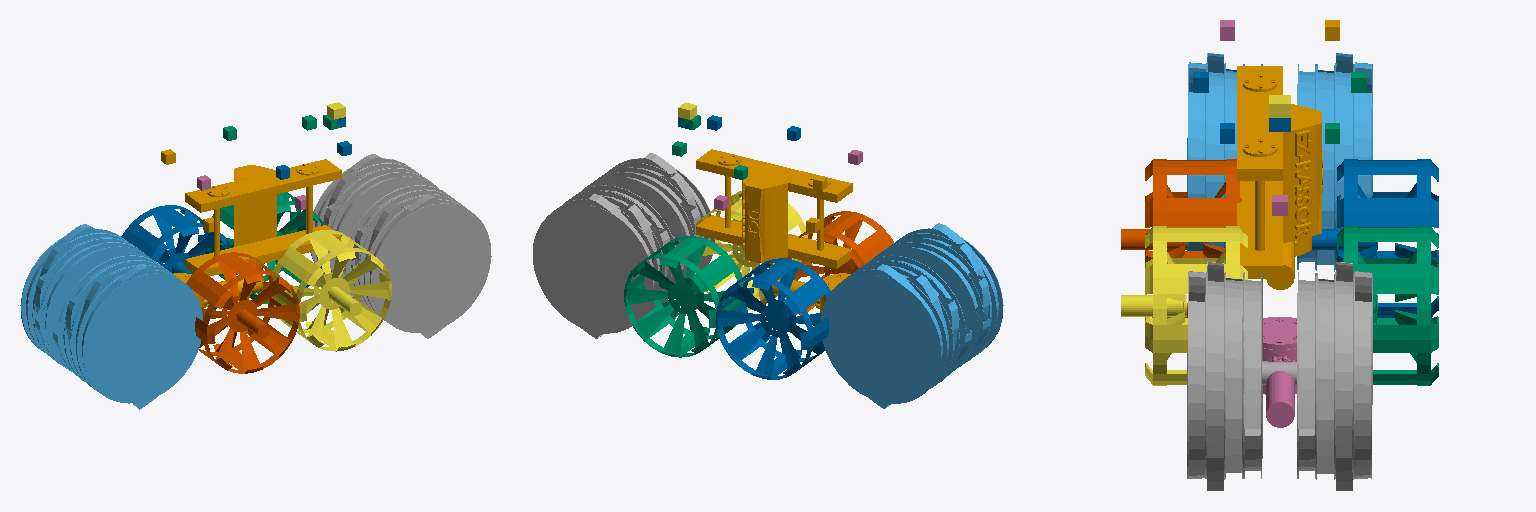
URDF robot description (ipex):
<?xml version="1.0" ?>
<!-- =================================================================================== -->
<!-- |    This document was autogenerated by xacro from /ws/src/stewie_description/urdf/ipex.urdf.xacro | -->
<!-- |    EDITING THIS FILE BY HAND IS NOT RECOMMENDED                                 | -->
<!-- =================================================================================== -->
<!-- [REQ:AS-03] IPEx vehicle description (chassis, 4 wheels, 2 bucket drums, IMU, 8-camera rig,
     collision, inertials, joint limits, TF tree). [REQ:AS-17] the stereo baseline is the
     authoritative profile value, NOT a hard-coded literal: it defaults to the 0.05 m TRL5-final
     flight baseline (the sim's active geometry after the 2026-06-18 re-freeze) and is overridable
     via the `stereo_baseline` arg. The rejected 0.165 m shoulder split is documented in
     stewie/specs/stereo_authority.py and is deliberately NOT the default here.

     Geometry provenance: stewie/specs/profile_data/stewie_ipex_v1.json (vehicle + stereo/sensor blocks)
     and stewie/specs/ipex_specs.py (SCHULER24 NTRS 20240008162 / WHEELTEST / BDSCALE). Per-part
     MASS ALLOCATION is [ASSUMPTION] (only the 30 kg dry total + 0.21 m CG height are sourced; the
     split among chassis/wheels/drums is an engineering estimate, tagged like ipex_specs' other
     [ASSUMPTION] values). Inertias use exact rigid-body formulas on those masses+dims. -->
<robot name="ipex">
  <!-- SOURCED dry total (ROVER_MASS_CLASS_KG) -->
  <!-- [ASSUMPTION] -->
  <!-- [ASSUMPTION] arm reach ahead of chassis -->
  <!-- x2 = 6.0 ; 18 + 6 + 6 = 30 -->
  <!-- ============================ the robot ============================ -->
  <!-- base_link: the chassis body (REP-103 x-forward, y-left, z-up) -->
  <link name="base_link">
    <visual>
      <origin xyz="0 0 0.21"/>
      <geometry>
        <mesh filename="package://stewie_description/meshes/rover_body.stl"/>
      </geometry>
    </visual>
    <collision>
      <origin xyz="0 0 0.21"/>
      <geometry>
        <box size="0.46 0.3 0.18"/>
      </geometry>
    </collision>
    <inertial>
      <mass value="18.0"/>
      <inertia ixx="0.18359999999999999" ixy="0" ixz="0" iyy="0.36599999999999994" iyz="0" izz="0.45239999999999997"/>
    </inertial>
  </link>
  <!-- IMU (REP-103 imu_link; matches autonomy_contract.FRAMES) -->
  <link name="imu_link"/>
  <joint name="imu_joint" type="fixed">
    <parent link="base_link"/>
    <child link="imu_link"/>
    <origin xyz="0 0 0.21"/>
  </joint>
  <link name="front_left_wheel">
    <visual>
      <origin rpy="1.5707963267948966 0 0"/>
      <geometry>
        <mesh filename="package://stewie_description/meshes/wheel.stl"/>
      </geometry>
    </visual>
    <collision name="front_left_wheel_collision">
      <origin rpy="1.5707963267948966 0 0"/>
      <geometry>
        <cylinder length="0.18" radius="0.1525"/>
      </geometry>
    </collision>
    <inertial>
      <mass value="1.5"/>
      <inertia ixx="0.012771093749999999" ixy="0" ixz="0" iyy="0.0174421875" iyz="0" izz="0.012771093749999999"/>
    </inertial>
  </link>
  <joint name="front_left_wheel_joint" type="continuous">
    <parent link="base_link"/>
    <child link="front_left_wheel"/>
    <origin xyz="0.15 0.18225 0"/>
    <axis xyz="0 1 0"/>
    <limit effort="20.0" velocity="6.0"/>
    <!-- [ASSUMPTION] actuator limits -->
  </joint>
  <link name="front_right_wheel">
    <visual>
      <origin rpy="1.5707963267948966 0 0"/>
      <geometry>
        <mesh filename="package://stewie_description/meshes/wheel.stl"/>
      </geometry>
    </visual>
    <collision name="front_right_wheel_collision">
      <origin rpy="1.5707963267948966 0 0"/>
      <geometry>
        <cylinder length="0.18" radius="0.1525"/>
      </geometry>
    </collision>
    <inertial>
      <mass value="1.5"/>
      <inertia ixx="0.012771093749999999" ixy="0" ixz="0" iyy="0.0174421875" iyz="0" izz="0.012771093749999999"/>
    </inertial>
  </link>
  <joint name="front_right_wheel_joint" type="continuous">
    <parent link="base_link"/>
    <child link="front_right_wheel"/>
    <origin xyz="0.15 -0.18225 0"/>
    <axis xyz="0 1 0"/>
    <limit effort="20.0" velocity="6.0"/>
    <!-- [ASSUMPTION] actuator limits -->
  </joint>
  <link name="rear_left_wheel">
    <visual>
      <origin rpy="1.5707963267948966 0 0"/>
      <geometry>
        <mesh filename="package://stewie_description/meshes/wheel.stl"/>
      </geometry>
    </visual>
    <collision name="rear_left_wheel_collision">
      <origin rpy="1.5707963267948966 0 0"/>
      <geometry>
        <cylinder length="0.18" radius="0.1525"/>
      </geometry>
    </collision>
    <inertial>
      <mass value="1.5"/>
      <inertia ixx="0.012771093749999999" ixy="0" ixz="0" iyy="0.0174421875" iyz="0" izz="0.012771093749999999"/>
    </inertial>
  </link>
  <joint name="rear_left_wheel_joint" type="continuous">
    <parent link="base_link"/>
    <child link="rear_left_wheel"/>
    <origin xyz="-0.15 0.18225 0"/>
    <axis xyz="0 1 0"/>
    <limit effort="20.0" velocity="6.0"/>
    <!-- [ASSUMPTION] actuator limits -->
  </joint>
  <link name="rear_right_wheel">
    <visual>
      <origin rpy="1.5707963267948966 0 0"/>
      <geometry>
        <mesh filename="package://stewie_description/meshes/wheel.stl"/>
      </geometry>
    </visual>
    <collision name="rear_right_wheel_collision">
      <origin rpy="1.5707963267948966 0 0"/>
      <geometry>
        <cylinder length="0.18" radius="0.1525"/>
      </geometry>
    </collision>
    <inertial>
      <mass value="1.5"/>
      <inertia ixx="0.012771093749999999" ixy="0" ixz="0" iyy="0.0174421875" iyz="0" izz="0.012771093749999999"/>
    </inertial>
  </link>
  <joint name="rear_right_wheel_joint" type="continuous">
    <parent link="base_link"/>
    <child link="rear_right_wheel"/>
    <origin xyz="-0.15 -0.18225 0"/>
    <axis xyz="0 1 0"/>
    <limit effort="20.0" velocity="6.0"/>
    <!-- [ASSUMPTION] actuator limits -->
  </joint>
  <link name="front_drum_arm">
    <visual>
      <geometry>
        <mesh filename="package://stewie_description/meshes/drum_arm.stl"/>
      </geometry>
    </visual>
    <inertial>
      <mass value="0.5"/>
      <inertia ixx="0.00020833333333333337" ixy="0" ixz="0" iyy="0.004370833333333333" iyz="0" izz="0.004370833333333333"/>
    </inertial>
  </link>
  <joint name="front_drum_arm_joint" type="continuous">
    <parent link="base_link"/>
    <child link="front_drum_arm"/>
    <origin xyz="0.31 0 0"/>
    <axis xyz="0 1 0"/>
    <!-- continuous (full rotation) to match the EZ-RASSOR ROS2 URDF articulation: RASSOR arms swing
           the drums dig<->dump, not a small revolute lift. effort = ARM_EXCAVATION_LOAD_NM (IPEx spec). -->
    <limit effort="18.5" velocity="1.0"/>
  </joint>
  <link name="front_drum">
    <visual>
      <origin rpy="1.5707963267948966 0 0"/>
      <geometry>
        <mesh filename="package://stewie_description/meshes/drum.stl"/>
      </geometry>
    </visual>
    <collision>
      <origin rpy="1.5707963267948966 0 0"/>
      <geometry>
        <cylinder length="0.3526" radius="0.21855"/>
      </geometry>
    </collision>
    <inertial>
      <mass value="3.0"/>
      <inertia ixx="0.06690476687500001" ixy="0" ixz="0" iyy="0.07164615375" iyz="0" izz="0.06690476687500001"/>
    </inertial>
  </link>
  <joint name="front_drum_spin_joint" type="continuous">
    <parent link="front_drum_arm"/>
    <child link="front_drum"/>
    <origin xyz="0.16 0 0"/>
    <axis xyz="0 1 0"/>
    <limit effort="25.0" velocity="2.62"/>
    <!-- 25 RPM drum (ipex_specs.DRUM_SPEED_RPM) -->
  </joint>
  <link name="rear_drum_arm">
    <visual>
      <geometry>
        <mesh filename="package://stewie_description/meshes/drum_arm.stl"/>
      </geometry>
    </visual>
    <inertial>
      <mass value="0.5"/>
      <inertia ixx="0.00020833333333333337" ixy="0" ixz="0" iyy="0.004370833333333333" iyz="0" izz="0.004370833333333333"/>
    </inertial>
  </link>
  <joint name="rear_drum_arm_joint" type="continuous">
    <parent link="base_link"/>
    <child link="rear_drum_arm"/>
    <origin xyz="-0.31 0 0"/>
    <axis xyz="0 1 0"/>
    <!-- continuous (full rotation) to match the EZ-RASSOR ROS2 URDF articulation: RASSOR arms swing
           the drums dig<->dump, not a small revolute lift. effort = ARM_EXCAVATION_LOAD_NM (IPEx spec). -->
    <limit effort="18.5" velocity="1.0"/>
  </joint>
  <link name="rear_drum">
    <visual>
      <origin rpy="1.5707963267948966 0 0"/>
      <geometry>
        <mesh filename="package://stewie_description/meshes/drum.stl"/>
      </geometry>
    </visual>
    <collision>
      <origin rpy="1.5707963267948966 0 0"/>
      <geometry>
        <cylinder length="0.3526" radius="0.21855"/>
      </geometry>
    </collision>
    <inertial>
      <mass value="3.0"/>
      <inertia ixx="0.06690476687500001" ixy="0" ixz="0" iyy="0.07164615375" iyz="0" izz="0.06690476687500001"/>
    </inertial>
  </link>
  <joint name="rear_drum_spin_joint" type="continuous">
    <parent link="rear_drum_arm"/>
    <child link="rear_drum"/>
    <origin xyz="-0.16 0 0"/>
    <axis xyz="0 1 0"/>
    <limit effort="25.0" velocity="2.62"/>
    <!-- 25 RPM drum (ipex_specs.DRUM_SPEED_RPM) -->
  </joint>
  <link name="camera_front_left">
    <visual>
      <geometry>
        <box size="0.03 0.03 0.03"/>
      </geometry>
    </visual>
    <inertial>
      <mass value="0.05"/>
      <inertia ixx="7.5e-06" ixy="0" ixz="0" iyy="7.5e-06" iyz="0" izz="7.5e-06"/>
    </inertial>
  </link>
  <joint name="camera_front_left_joint" type="fixed">
    <parent link="base_link"/>
    <child link="camera_front_left"/>
    <origin rpy="0 0 0" xyz="0.23 0.1 0.4"/>
  </joint>
  <!-- optical frame: REP-103 body (x-fwd,z-up) -> optical (z-fwd,x-right,y-down) = rpy(-pi/2,0,-pi/2) -->
  <link name="camera_front_left_optical"/>
  <joint name="camera_front_left_optical_joint" type="fixed">
    <parent link="camera_front_left"/>
    <child link="camera_front_left_optical"/>
    <origin rpy="-1.5707963267948966 0 -1.5707963267948966"/>
  </joint>
  <link name="camera_front_right">
    <visual>
      <geometry>
        <box size="0.03 0.03 0.03"/>
      </geometry>
    </visual>
    <inertial>
      <mass value="0.05"/>
      <inertia ixx="7.5e-06" ixy="0" ixz="0" iyy="7.5e-06" iyz="0" izz="7.5e-06"/>
    </inertial>
  </link>
  <joint name="camera_front_right_joint" type="fixed">
    <parent link="base_link"/>
    <child link="camera_front_right"/>
    <origin rpy="0 0 0" xyz="0.23 -0.1 0.4"/>
  </joint>
  <!-- optical frame: REP-103 body (x-fwd,z-up) -> optical (z-fwd,x-right,y-down) = rpy(-pi/2,0,-pi/2) -->
  <link name="camera_front_right_optical"/>
  <joint name="camera_front_right_optical_joint" type="fixed">
    <parent link="camera_front_right"/>
    <child link="camera_front_right_optical"/>
    <origin rpy="-1.5707963267948966 0 -1.5707963267948966"/>
  </joint>
  <link name="camera_rear_left">
    <visual>
      <geometry>
        <box size="0.03 0.03 0.03"/>
      </geometry>
    </visual>
    <inertial>
      <mass value="0.05"/>
      <inertia ixx="7.5e-06" ixy="0" ixz="0" iyy="7.5e-06" iyz="0" izz="7.5e-06"/>
    </inertial>
  </link>
  <joint name="camera_rear_left_joint" type="fixed">
    <parent link="base_link"/>
    <child link="camera_rear_left"/>
    <origin rpy="0 0 3.141592653589793" xyz="-0.23 -0.1 0.4"/>
  </joint>
  <!-- optical frame: REP-103 body (x-fwd,z-up) -> optical (z-fwd,x-right,y-down) = rpy(-pi/2,0,-pi/2) -->
  <link name="camera_rear_left_optical"/>
  <joint name="camera_rear_left_optical_joint" type="fixed">
    <parent link="camera_rear_left"/>
    <child link="camera_rear_left_optical"/>
    <origin rpy="-1.5707963267948966 0 -1.5707963267948966"/>
  </joint>
  <link name="camera_rear_right">
    <visual>
      <geometry>
        <box size="0.03 0.03 0.03"/>
      </geometry>
    </visual>
    <inertial>
      <mass value="0.05"/>
      <inertia ixx="7.5e-06" ixy="0" ixz="0" iyy="7.5e-06" iyz="0" izz="7.5e-06"/>
    </inertial>
  </link>
  <joint name="camera_rear_right_joint" type="fixed">
    <parent link="base_link"/>
    <child link="camera_rear_right"/>
    <origin rpy="0 0 3.141592653589793" xyz="-0.23 0.1 0.4"/>
  </joint>
  <!-- optical frame: REP-103 body (x-fwd,z-up) -> optical (z-fwd,x-right,y-down) = rpy(-pi/2,0,-pi/2) -->
  <link name="camera_rear_right_optical"/>
  <joint name="camera_rear_right_optical_joint" type="fixed">
    <parent link="camera_rear_right"/>
    <child link="camera_rear_right_optical"/>
    <origin rpy="-1.5707963267948966 0 -1.5707963267948966"/>
  </joint>
  <link name="camera_left_mono">
    <visual>
      <geometry>
        <box size="0.03 0.03 0.03"/>
      </geometry>
    </visual>
    <inertial>
      <mass value="0.05"/>
      <inertia ixx="7.5e-06" ixy="0" ixz="0" iyy="7.5e-06" iyz="0" izz="7.5e-06"/>
    </inertial>
  </link>
  <joint name="camera_left_mono_joint" type="fixed">
    <parent link="base_link"/>
    <child link="camera_left_mono"/>
    <origin rpy="0 0 1.5707963267948966" xyz="0 0.15 0.4"/>
  </joint>
  <!-- optical frame: REP-103 body (x-fwd,z-up) -> optical (z-fwd,x-right,y-down) = rpy(-pi/2,0,-pi/2) -->
  <link name="camera_left_mono_optical"/>
  <joint name="camera_left_mono_optical_joint" type="fixed">
    <parent link="camera_left_mono"/>
    <child link="camera_left_mono_optical"/>
    <origin rpy="-1.5707963267948966 0 -1.5707963267948966"/>
  </joint>
  <link name="camera_right_mono">
    <visual>
      <geometry>
        <box size="0.03 0.03 0.03"/>
      </geometry>
    </visual>
    <inertial>
      <mass value="0.05"/>
      <inertia ixx="7.5e-06" ixy="0" ixz="0" iyy="7.5e-06" iyz="0" izz="7.5e-06"/>
    </inertial>
  </link>
  <joint name="camera_right_mono_joint" type="fixed">
    <parent link="base_link"/>
    <child link="camera_right_mono"/>
    <origin rpy="0 0 -1.5707963267948966" xyz="0 -0.15 0.4"/>
  </joint>
  <!-- optical frame: REP-103 body (x-fwd,z-up) -> optical (z-fwd,x-right,y-down) = rpy(-pi/2,0,-pi/2) -->
  <link name="camera_right_mono_optical"/>
  <joint name="camera_right_mono_optical_joint" type="fixed">
    <parent link="camera_right_mono"/>
    <child link="camera_right_mono_optical"/>
    <origin rpy="-1.5707963267948966 0 -1.5707963267948966"/>
  </joint>
  <link name="camera_drum_front">
    <visual>
      <geometry>
        <box size="0.03 0.03 0.03"/>
      </geometry>
    </visual>
    <inertial>
      <mass value="0.05"/>
      <inertia ixx="7.5e-06" ixy="0" ixz="0" iyy="7.5e-06" iyz="0" izz="7.5e-06"/>
    </inertial>
  </link>
  <joint name="camera_drum_front_joint" type="fixed">
    <parent link="base_link"/>
    <child link="camera_drum_front"/>
    <origin rpy="0 0 0" xyz="0.15 0 0.21"/>
  </joint>
  <!-- optical frame: REP-103 body (x-fwd,z-up) -> optical (z-fwd,x-right,y-down) = rpy(-pi/2,0,-pi/2) -->
  <link name="camera_drum_front_optical"/>
  <joint name="camera_drum_front_optical_joint" type="fixed">
    <parent link="camera_drum_front"/>
    <child link="camera_drum_front_optical"/>
    <origin rpy="-1.5707963267948966 0 -1.5707963267948966"/>
  </joint>
  <link name="camera_drum_back">
    <visual>
      <geometry>
        <box size="0.03 0.03 0.03"/>
      </geometry>
    </visual>
    <inertial>
      <mass value="0.05"/>
      <inertia ixx="7.5e-06" ixy="0" ixz="0" iyy="7.5e-06" iyz="0" izz="7.5e-06"/>
    </inertial>
  </link>
  <joint name="camera_drum_back_joint" type="fixed">
    <parent link="base_link"/>
    <child link="camera_drum_back"/>
    <origin rpy="0 0 3.141592653589793" xyz="-0.15 0 0.21"/>
  </joint>
  <!-- optical frame: REP-103 body (x-fwd,z-up) -> optical (z-fwd,x-right,y-down) = rpy(-pi/2,0,-pi/2) -->
  <link name="camera_drum_back_optical"/>
  <joint name="camera_drum_back_optical_joint" type="fixed">
    <parent link="camera_drum_back"/>
    <child link="camera_drum_back_optical"/>
    <origin rpy="-1.5707963267948966 0 -1.5707963267948966"/>
  </joint>
  <link name="depth_sensor_mount">
    <visual>
      <geometry>
        <box size="0.04 0.04 0.03"/>
      </geometry>
    </visual>
    <collision>
      <geometry>
        <box size="0.04 0.04 0.03"/>
      </geometry>
    </collision>
    <inertial>
      <mass value="0.08"/>
      <inertia ixx="1.6666666666666667e-05" ixy="0" ixz="0" iyy="1.6666666666666667e-05" iyz="0" izz="2.1333333333333338e-05"/>
    </inertial>
  </link>
  <joint name="depth_sensor_mount_joint" type="fixed">
    <parent link="base_link"/>
    <child link="depth_sensor_mount"/>
    <origin rpy="0 0 0" xyz="0.25 0 0.44"/>
  </joint>
  <link name="lidar_front_mount">
    <visual>
      <geometry>
        <box size="0.04 0.04 0.03"/>
      </geometry>
    </visual>
    <collision>
      <geometry>
        <box size="0.04 0.04 0.03"/>
      </geometry>
    </collision>
    <inertial>
      <mass value="0.08"/>
      <inertia ixx="1.6666666666666667e-05" ixy="0" ixz="0" iyy="1.6666666666666667e-05" iyz="0" izz="2.1333333333333338e-05"/>
    </inertial>
  </link>
  <joint name="lidar_front_mount_joint" type="fixed">
    <parent link="base_link"/>
    <child link="lidar_front_mount"/>
    <origin rpy="0 0 0" xyz="0.26 0 0.47000000000000003"/>
  </joint>
  <link name="rgbd_front_mount">
    <visual>
      <geometry>
        <box size="0.04 0.04 0.03"/>
      </geometry>
    </visual>
    <collision>
      <geometry>
        <box size="0.04 0.04 0.03"/>
      </geometry>
    </collision>
    <inertial>
      <mass value="0.08"/>
      <inertia ixx="1.6666666666666667e-05" ixy="0" ixz="0" iyy="1.6666666666666667e-05" iyz="0" izz="2.1333333333333338e-05"/>
    </inertial>
  </link>
  <joint name="rgbd_front_mount_joint" type="fixed">
    <parent link="base_link"/>
    <child link="rgbd_front_mount"/>
    <origin rpy="0 0 0" xyz="0.26 0 0.44"/>
  </joint>
</robot>

--- What the picture shows (computed from the rendered views, not written in the file) ---
Views: 3 orthographic renders of the robot side by side, from view 1: azimuth 30°, elevation 25°; view 2: azimuth 150°, elevation 25°; view 3: azimuth 270°, elevation 25°.
Robot: ipex — 29 links, 28 joints (8 continuous, 20 fixed); root link base_link; default pose: every joint at zero.
Links seen in each view (by area): view 1: rear_drum, front_drum, rear_right_wheel, front_right_wheel, base_link, rear_left_wheel, front_left_wheel; view 2: rear_drum, front_drum, base_link, rear_left_wheel, front_left_wheel, rear_right_wheel, front_right_wheel; view 3: front_drum, base_link, rear_drum, front_left_wheel, front_right_wheel, rear_left_wheel, rear_right_wheel, front_drum_arm, rear_drum_arm.
Boxes of the visible links, x1=… form: rear_drum: x1=20, y1=224, x2=202, y2=409; front_drum: x1=310, y1=154, x2=491, y2=338; rear_right_wheel: x1=186, y1=252, x2=299, y2=373; front_right_wheel: x1=271, y1=230, x2=391, y2=351; base_link: x1=185, y1=159, x2=341, y2=275; rear_left_wheel: x1=121, y1=205, x2=231, y2=309; front_left_wheel: x1=207, y1=192, x2=322, y2=303; rear_drum: x1=821, y1=223, x2=1003, y2=408; front_drum: x1=533, y1=153, x2=714, y2=338; base_link: x1=696, y1=149, x2=852, y2=268; rear_left_wheel: x1=716, y1=258, x2=830, y2=379; front_left_wheel: x1=624, y1=236, x2=744, y2=357; rear_right_wheel: x1=785, y1=211, x2=893, y2=326; front_right_wheel: x1=695, y1=191, x2=808, y2=309; front_drum: x1=1187, y1=262, x2=1372, y2=490; base_link: x1=1237, y1=66, x2=1322, y2=278; rear_drum: x1=1187, y1=53, x2=1372, y2=271; front_left_wheel: x1=1337, y1=226, x2=1438, y2=385; front_right_wheel: x1=1121, y1=226, x2=1247, y2=385; rear_left_wheel: x1=1312, y1=159, x2=1438, y2=317; rear_right_wheel: x1=1121, y1=159, x2=1246, y2=317; front_drum_arm: x1=1263, y1=317, x2=1296, y2=427; rear_drum_arm: x1=1266, y1=237, x2=1311, y2=289.
Bounding box of the posed robot: 1.38 × 0.6059 × 0.7035 m (x, y, z).
Meshes: 4 distinct files referenced, 9 mesh visuals loaded (4 binary STL).
